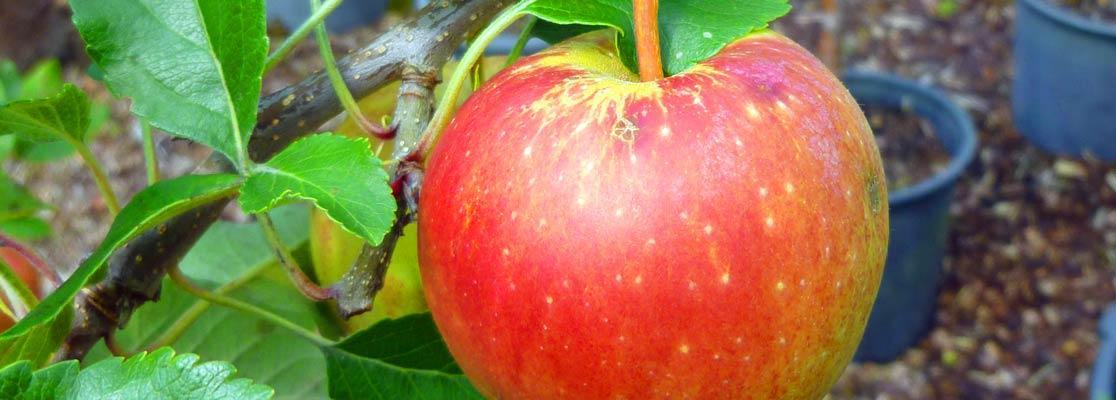apple: (413, 23, 896, 391)
